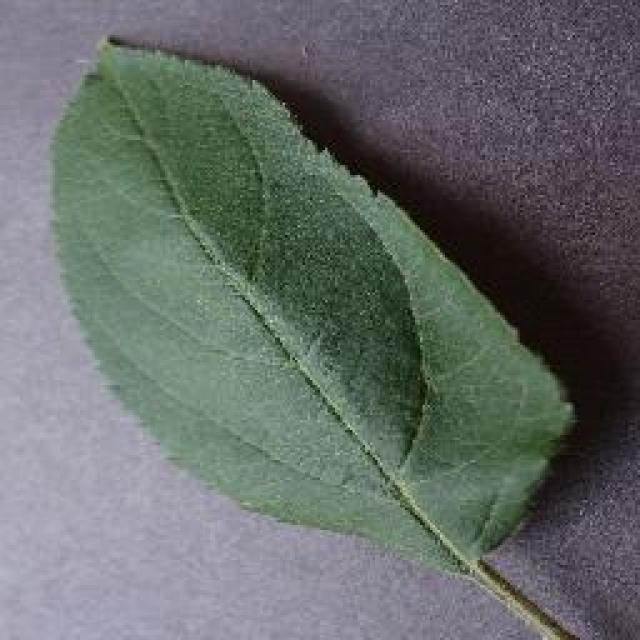Apple___healthy: (46, 32, 579, 584)
